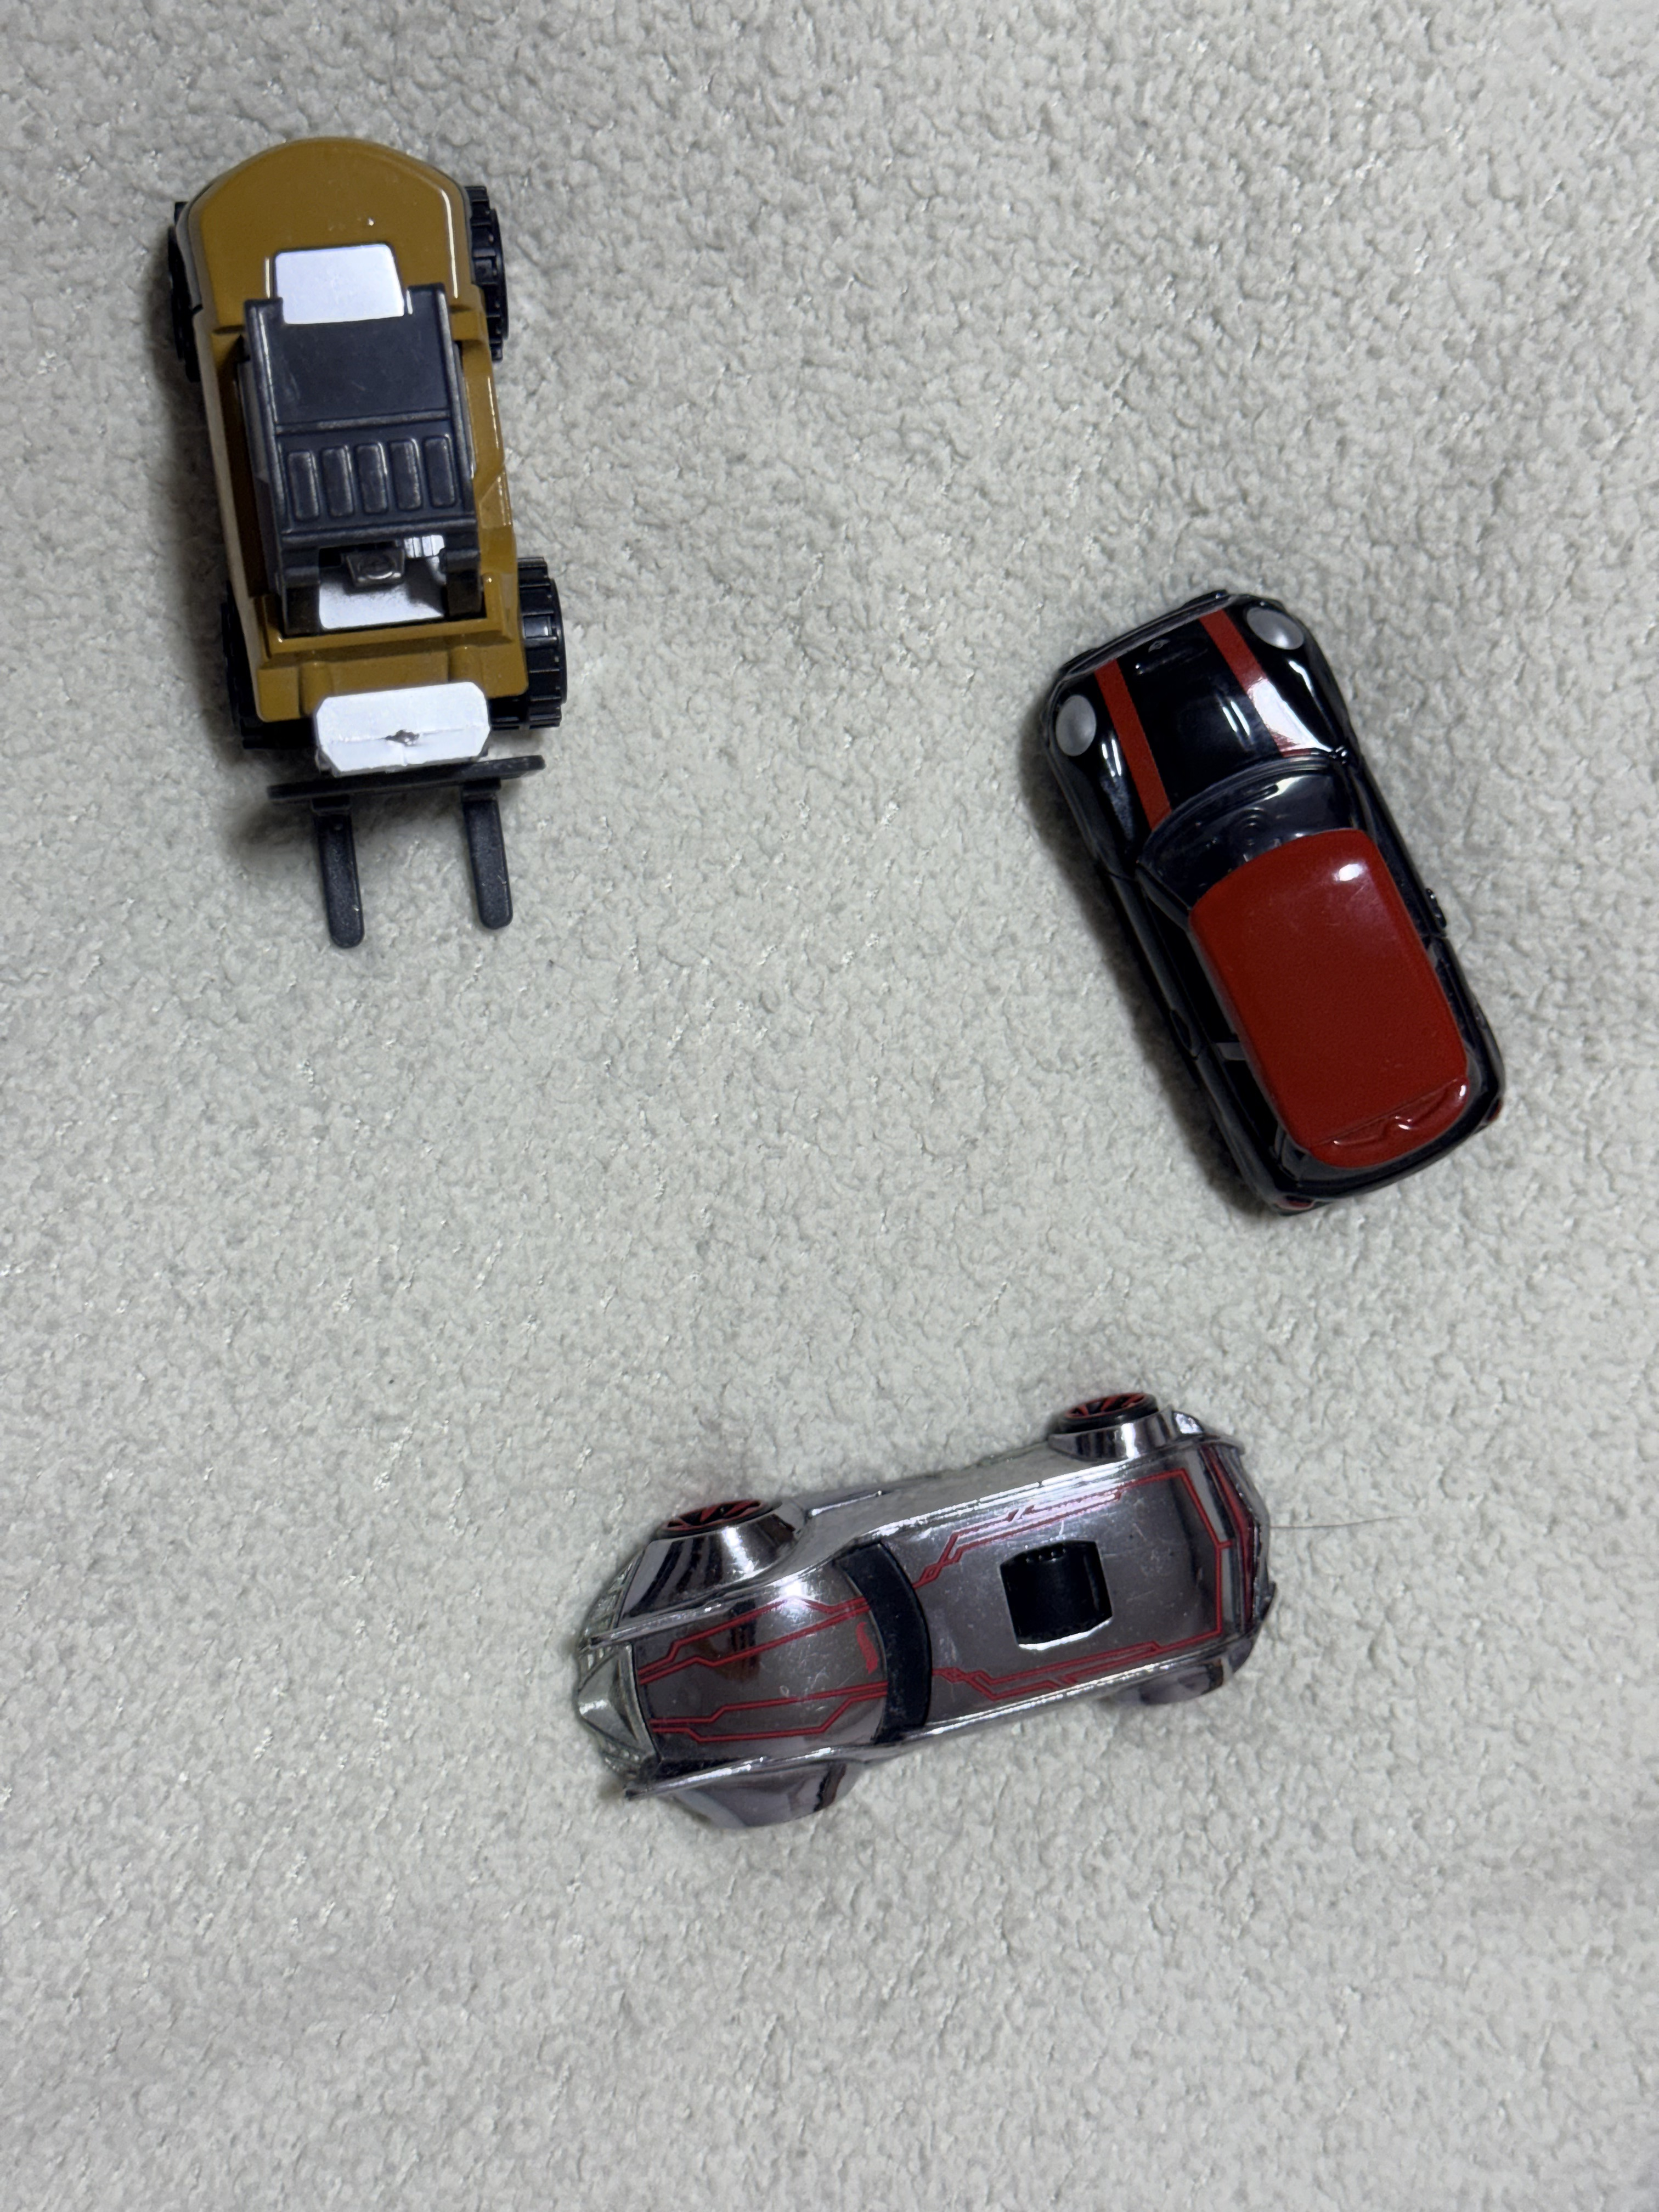dc_comics: (568, 1392, 1277, 1836)
forklift: (157, 136, 568, 953)
mini_cooper: (1035, 589, 1507, 1219)
